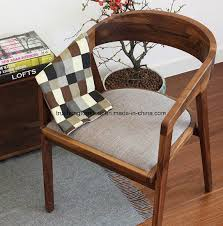tiyarina: (33, 8, 219, 223)
